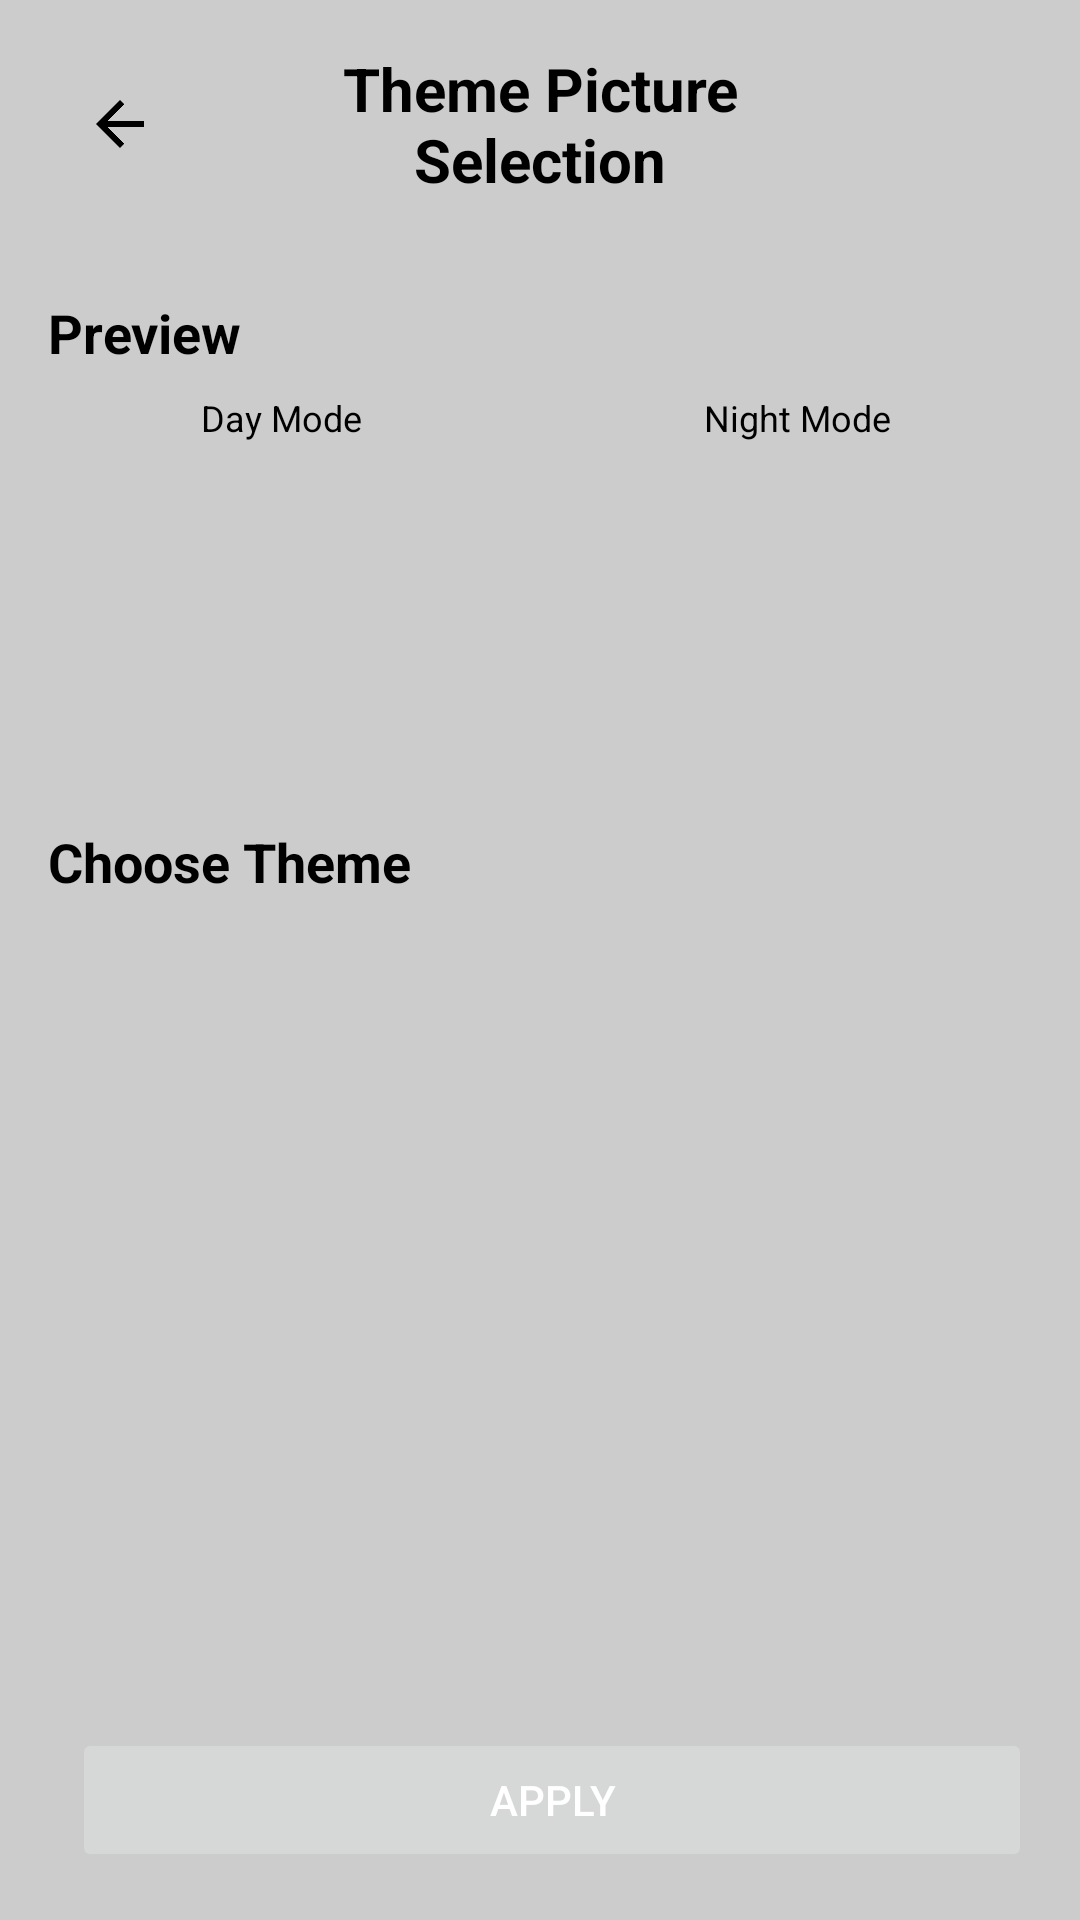

Point at icon controls on the screen. Image size 1080×1920, points as [x,y].
Back: [120,124]
